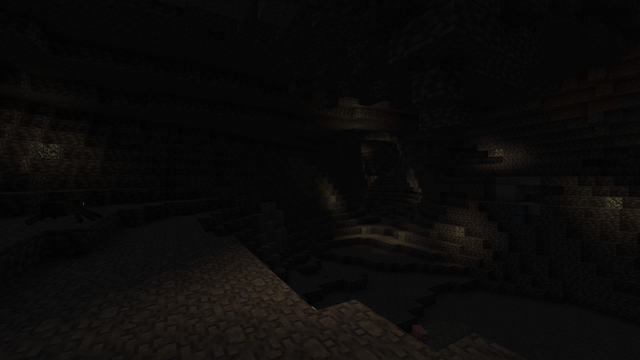araignees: (32, 196, 94, 225)
cochons: (409, 323, 427, 342)
